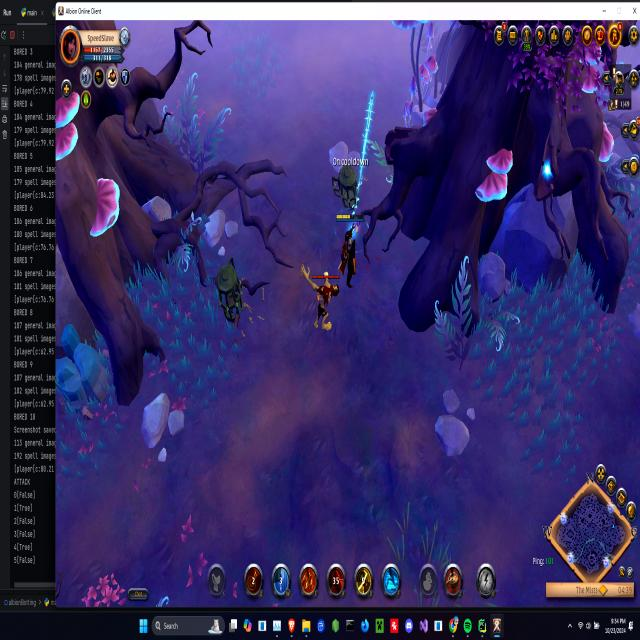red: (300, 262, 341, 338), (332, 205, 366, 292)
